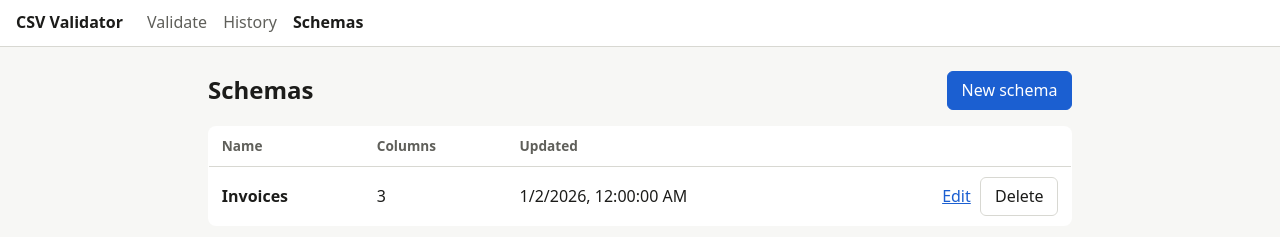
Test case: deleting a schema › keeps the schema when the user cancels
Click the button with aria-label "Delete Invoices" at (1019, 196), box [980,177,1058,216]
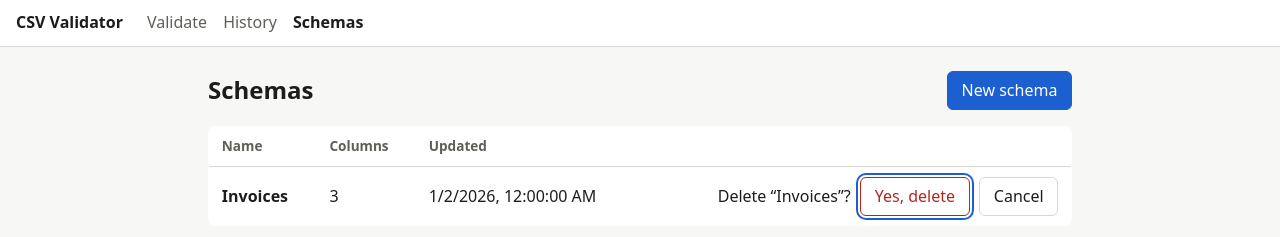
Click the button "Cancel" at (1019, 196), box [979,177,1058,216]
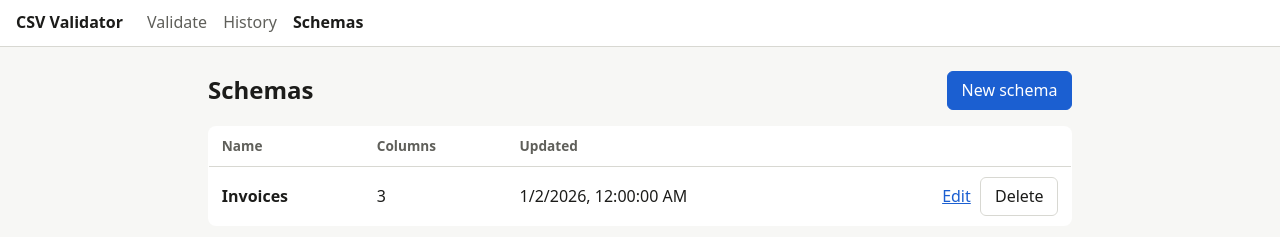
Expected: the button with aria-label "Delete Invoices" is shown, [980,177,1058,216]
